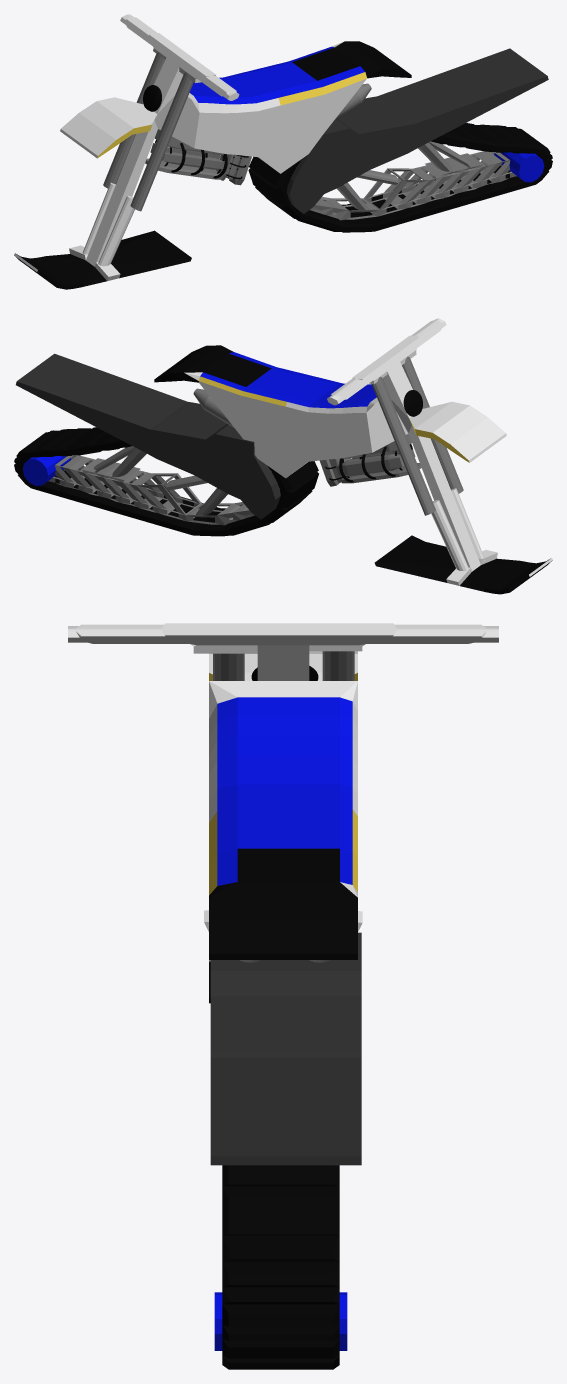
The model's file is Snowrider.fbx.
3 renders of one model, top to bottom at view 1: azimuth 30°, elevation 25°; view 2: azimuth 150°, elevation 25°; view 3: azimuth 270°, elevation 25°, orthographic. The views are drawn at different scales.
Parts seen in each view (by area): view 1: Cube; view 2: Cube; view 3: Cube.
Boxes of the visible parts, <box> form: Cube: <box>14,14,552,289</box>; Cube: <box>14,318,552,594</box>; Cube: <box>68,623,498,1369</box>.
Size of the model in its own units: 4.79 by 1.88 by 1.74.
